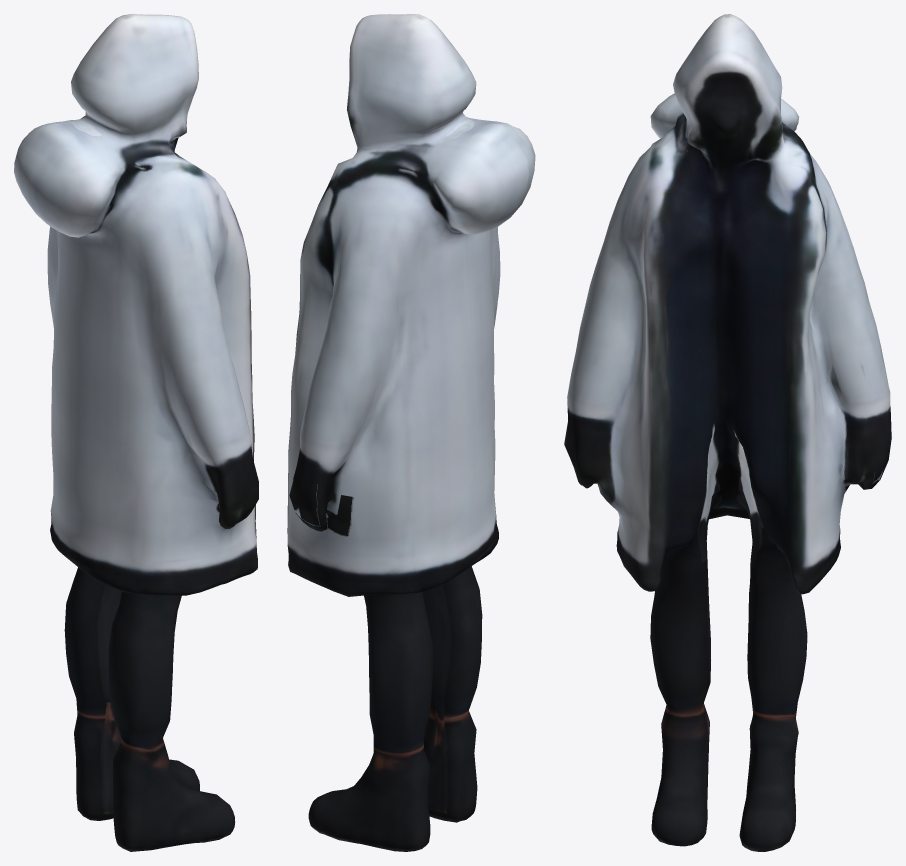
File: pedestrian2.glb
The picture shows the model from 3 angles, left to right: view 1: azimuth 30°, elevation 25°; view 2: azimuth 150°, elevation 25°; view 3: azimuth 270°, elevation 25°; orthographic projection. The views are drawn at different scales.
Visible parts, largest first — view 1: mesh; view 2: mesh; view 3: mesh.
Boxes of the visible parts, x1,y1,x2,y2 form: mesh: (14,14,258,851); mesh: (287,14,535,851); mesh: (564,14,891,851).
Bounding box in the file's own units: 0.2532 × 0.9977 × 0.3714.
1 material, 1 textured.
